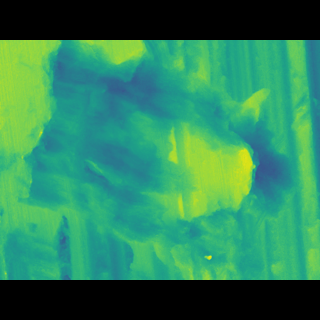Loch: (16, 79, 294, 246)
